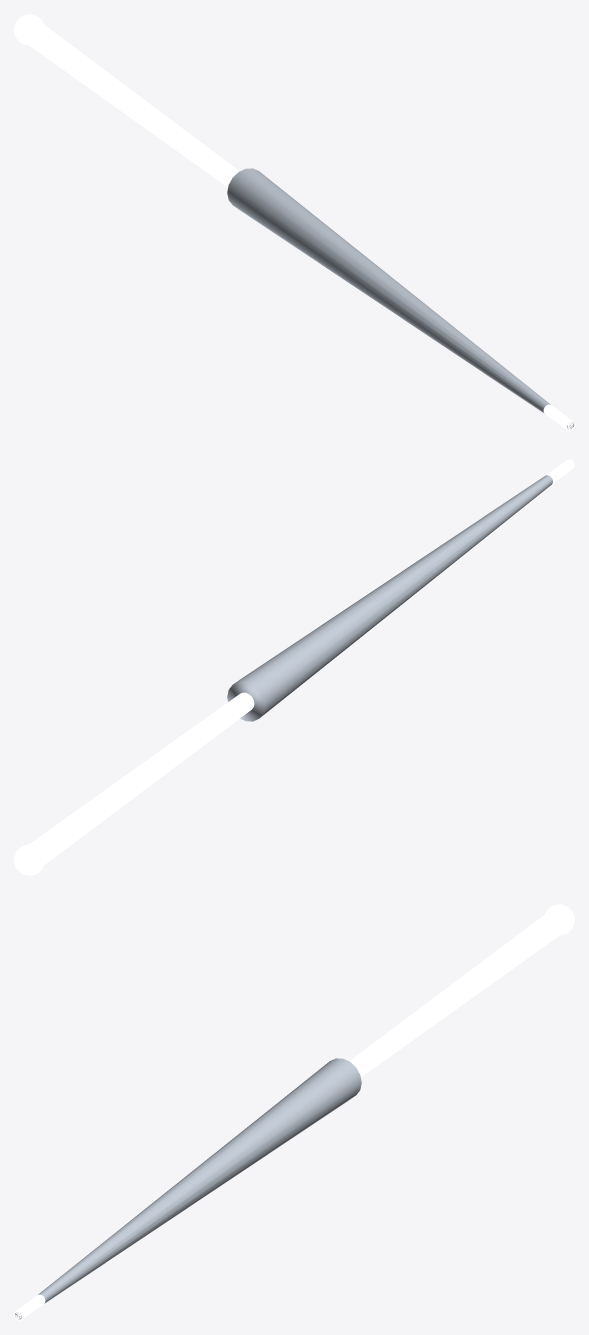
Rendered from vfx_tracer_ap.glb.
3 views of the same model, one above another, from view 1: azimuth 30°, elevation 25°; view 2: azimuth 150°, elevation 25°; view 3: azimuth 330°, elevation 25° (orthographic).
Visible parts, largest first — view 1: vfx_tracer_ap_sheath, vfx_tracer_ap_core; view 2: vfx_tracer_ap_sheath, vfx_tracer_ap_core, vfx_tracer_ap_head; view 3: vfx_tracer_ap_sheath, vfx_tracer_ap_core.
Boxes of the visible parts, <box> form: vfx_tracer_ap_sheath: <box>227,168,573,429</box>; vfx_tracer_ap_core: <box>22,21,574,430</box>; vfx_tracer_ap_sheath: <box>227,475,552,721</box>; vfx_tracer_ap_core: <box>29,459,574,864</box>; vfx_tracer_ap_head: <box>14,844,44,875</box>; vfx_tracer_ap_sheath: <box>15,1058,361,1319</box>; vfx_tracer_ap_core: <box>14,911,566,1320</box>.
Bounding box in the file's own units: 0.04 × 0.04 × 1.01.
